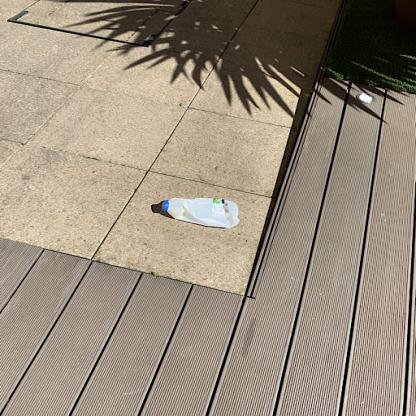trash: (150, 192, 242, 230)
